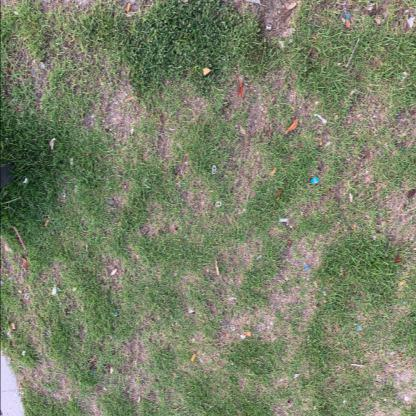Cigarette: (44, 216, 52, 227), (269, 167, 276, 176), (126, 2, 131, 13), (190, 354, 196, 363), (18, 382, 22, 390), (11, 324, 15, 330)
Other plastic: (346, 38, 360, 66), (13, 226, 26, 249)
Pop tab: (400, 72, 407, 81), (215, 201, 222, 208), (23, 293, 29, 301), (212, 164, 216, 173), (230, 325, 235, 331)
Unlabeled litter: (309, 177, 320, 185)
